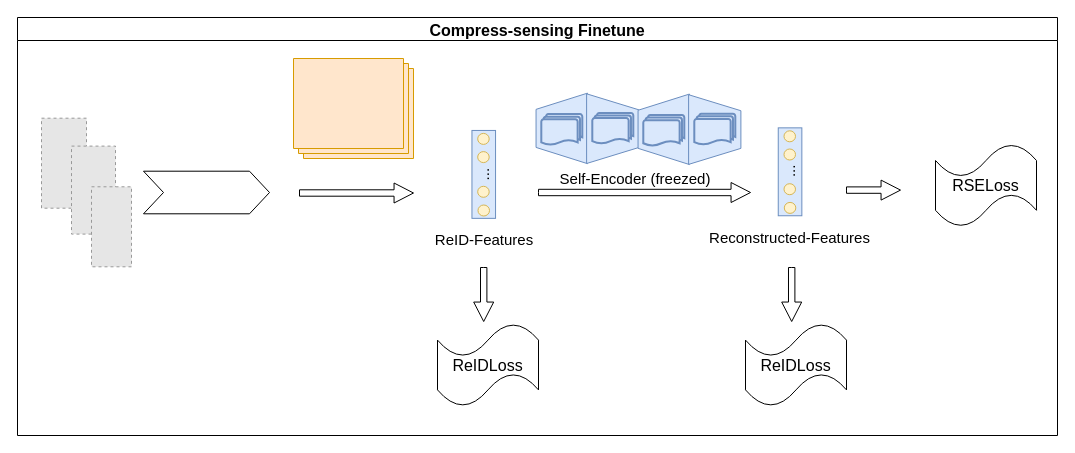
Some shapes in this 1075 by 453 pixel diagram are drawn without their labels. Grey dashed boxes stand in for pictures. Here are the shapes that lost their labels. From the top down, the box of each, then its label:
(292, 58, 414, 158): ReID-Net
(142, 170, 270, 214): data augmentation
